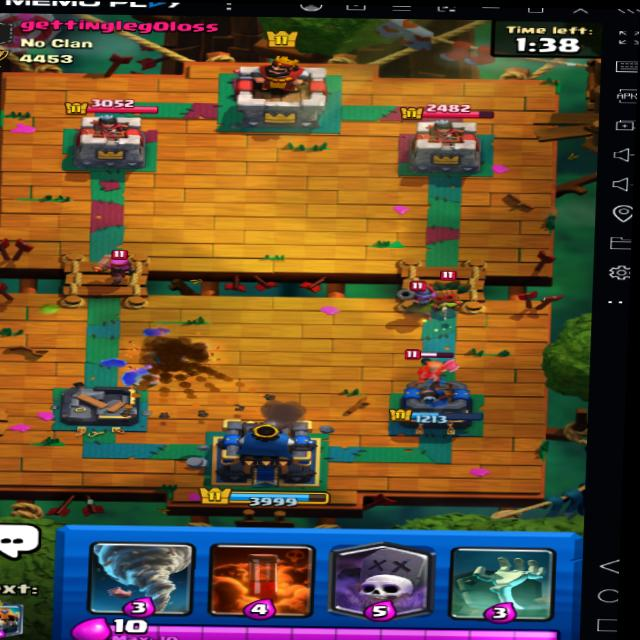Dartgoblin: (427, 272, 479, 314)
Firecracker: (85, 245, 138, 279)
Musketeer: (400, 280, 439, 319)
Valk: (402, 341, 464, 383)
